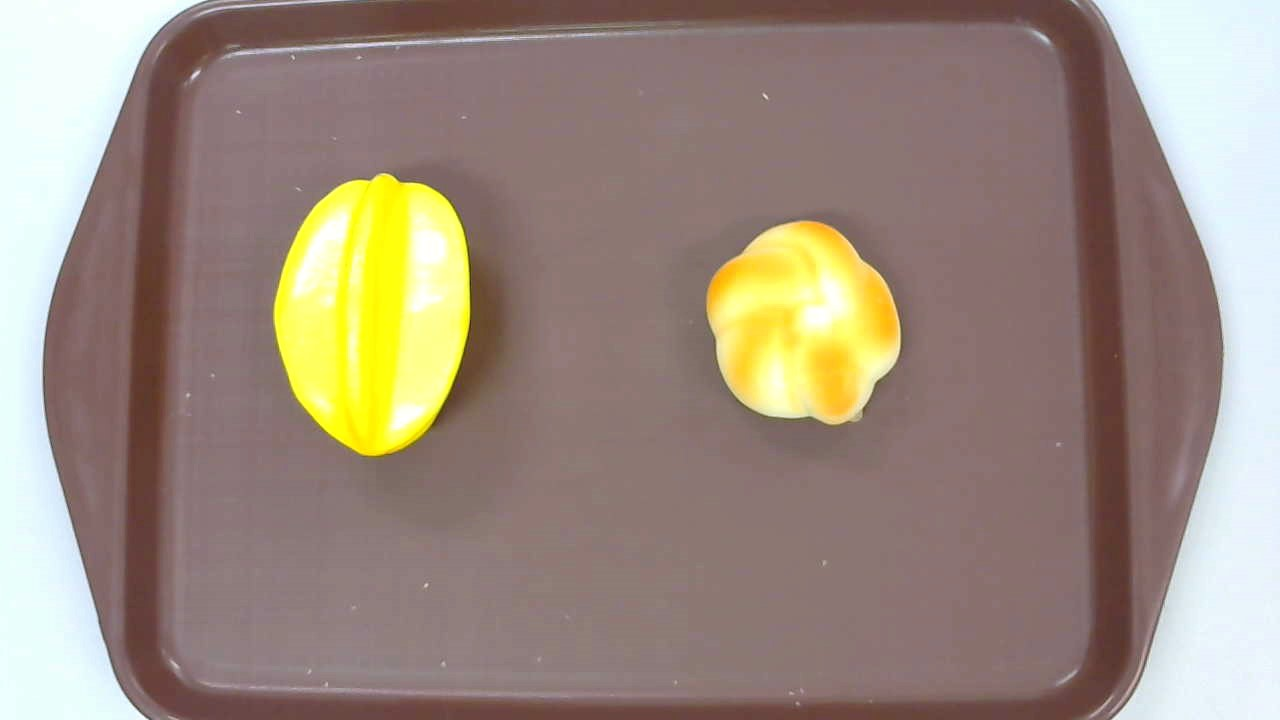star fruit: (271, 174, 470, 458)
twist bread: (705, 220, 901, 426)
